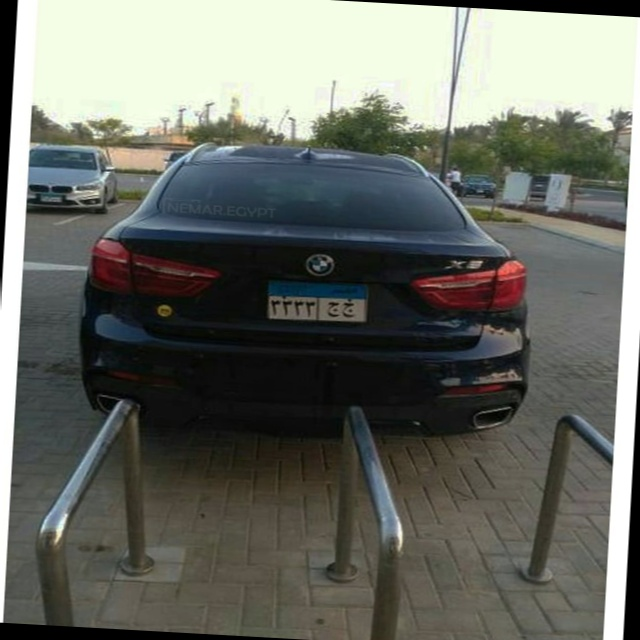License Plate: (262, 275, 371, 325)
